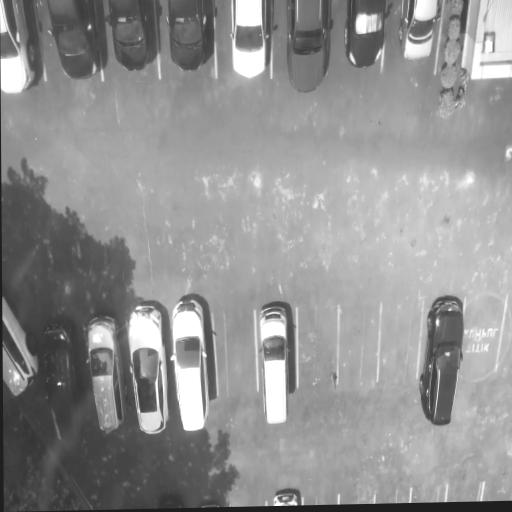Car: (418, 293, 467, 433), (46, 0, 107, 99), (42, 314, 84, 453), (129, 301, 169, 446), (171, 293, 211, 435), (256, 306, 297, 433), (288, 0, 335, 105), (86, 312, 122, 446), (2, 292, 41, 408), (106, 0, 160, 81), (0, 0, 45, 97), (164, 0, 217, 76), (343, 0, 389, 82), (232, 0, 273, 89), (397, 0, 444, 74), (270, 485, 306, 506)
Space Available: (215, 295, 256, 417), (296, 305, 338, 411), (339, 303, 381, 407), (463, 296, 507, 390), (381, 300, 421, 397), (337, 477, 376, 505), (301, 479, 338, 505), (409, 479, 447, 503), (446, 480, 483, 501), (378, 483, 414, 503), (484, 479, 512, 501)
